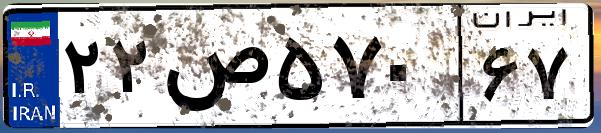0: (385, 28, 445, 110)
2: (57, 26, 110, 100), (110, 28, 158, 98)
5: (270, 28, 330, 110)
6: (475, 38, 525, 113)
7: (330, 28, 385, 110), (525, 38, 570, 115)
ص: (158, 20, 270, 120)
